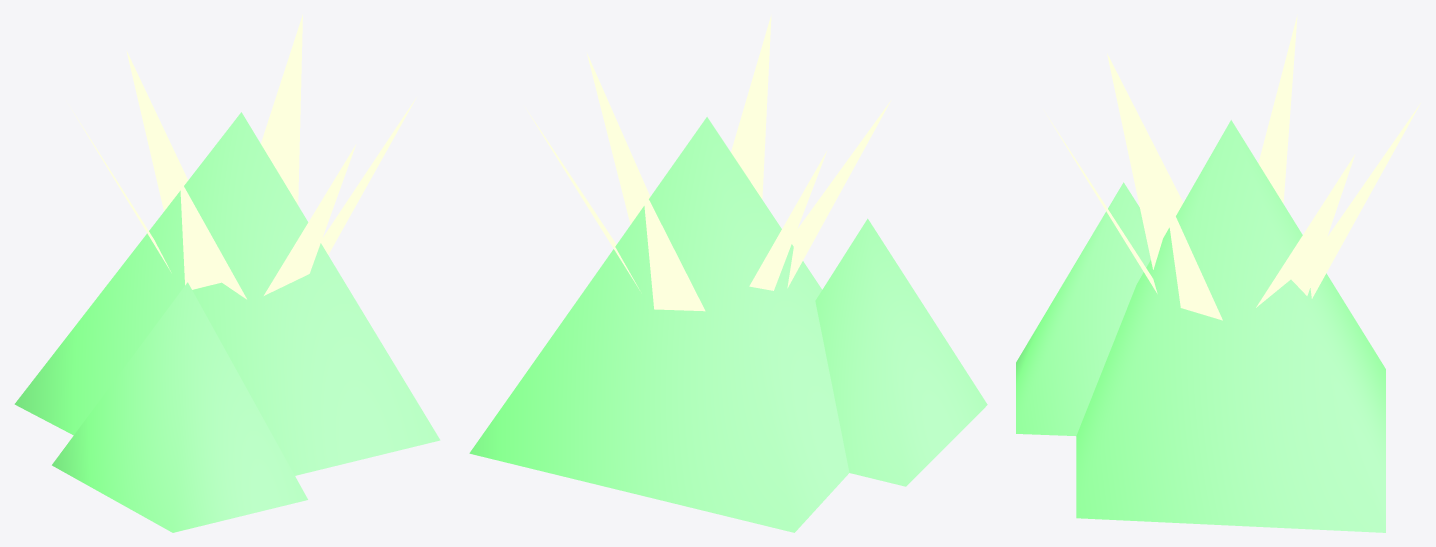
File: food_pod.glb
3 views of the same model, side by side, from view 1: azimuth 30°, elevation 25°; view 2: azimuth 150°, elevation 25°; view 3: azimuth 270°, elevation 25° (orthographic). The views are drawn at different scales.
Visible parts, largest first — view 1: food_pod; view 2: food_pod; view 3: food_pod.
Part boxes in pixels (x1,y1,x2,y2): food_pod: [14, 14, 440, 532]; food_pod: [469, 14, 987, 532]; food_pod: [1016, 14, 1420, 532].
Size of the model in its own units: 1 by 0.924 by 0.9432.
